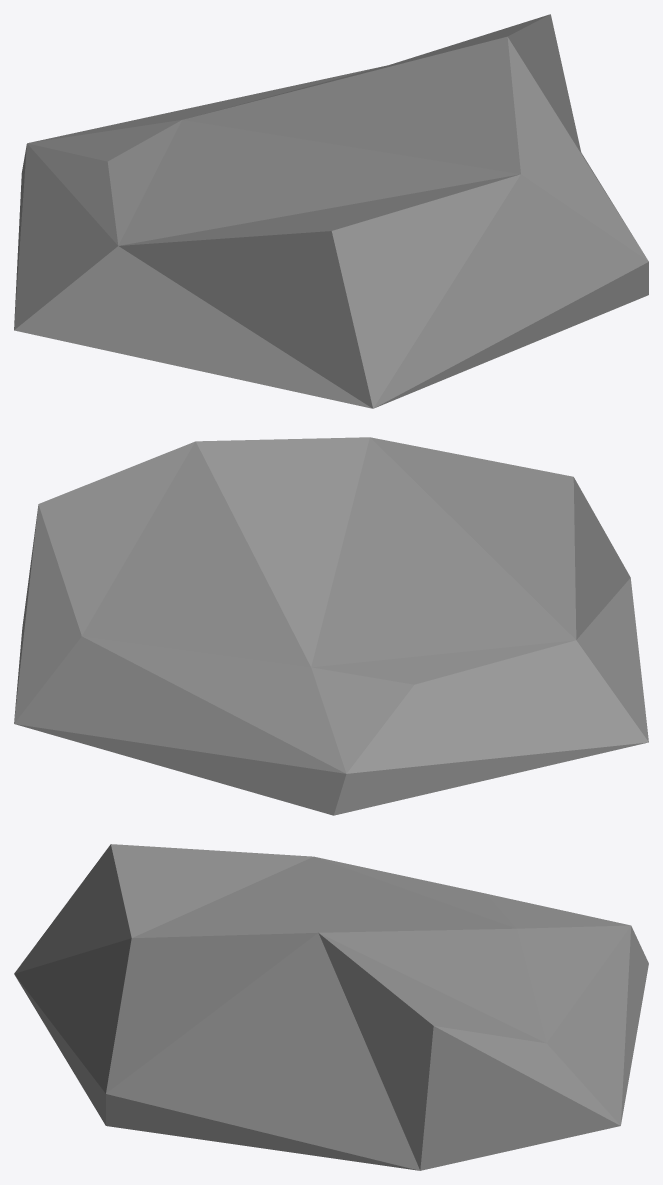
Rendered from Stone_B_12.FBX.
The picture shows the model from 3 angles, top to bottom: view 1: azimuth 30°, elevation 25°; view 2: azimuth 150°, elevation 25°; view 3: azimuth 270°, elevation 25°; orthographic projection. The views are drawn at different scales.
Parts seen in each view (by area): view 1: Stone_B_12; view 2: Stone_B_12; view 3: Stone_B_12.
Part boxes in pixels (left/top/right/bottom): Stone_B_12: left=14, top=14, right=648, bottom=408; Stone_B_12: left=14, top=437, right=648, bottom=815; Stone_B_12: left=14, top=844, right=648, bottom=1170.
Size of the model in its own units: 3.01 by 0.8771 by 2.83.
